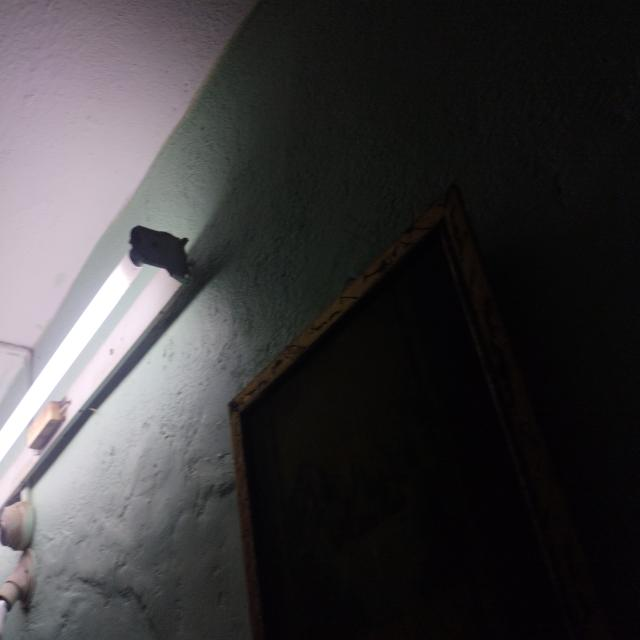tubelight_on: (0, 213, 214, 523)
